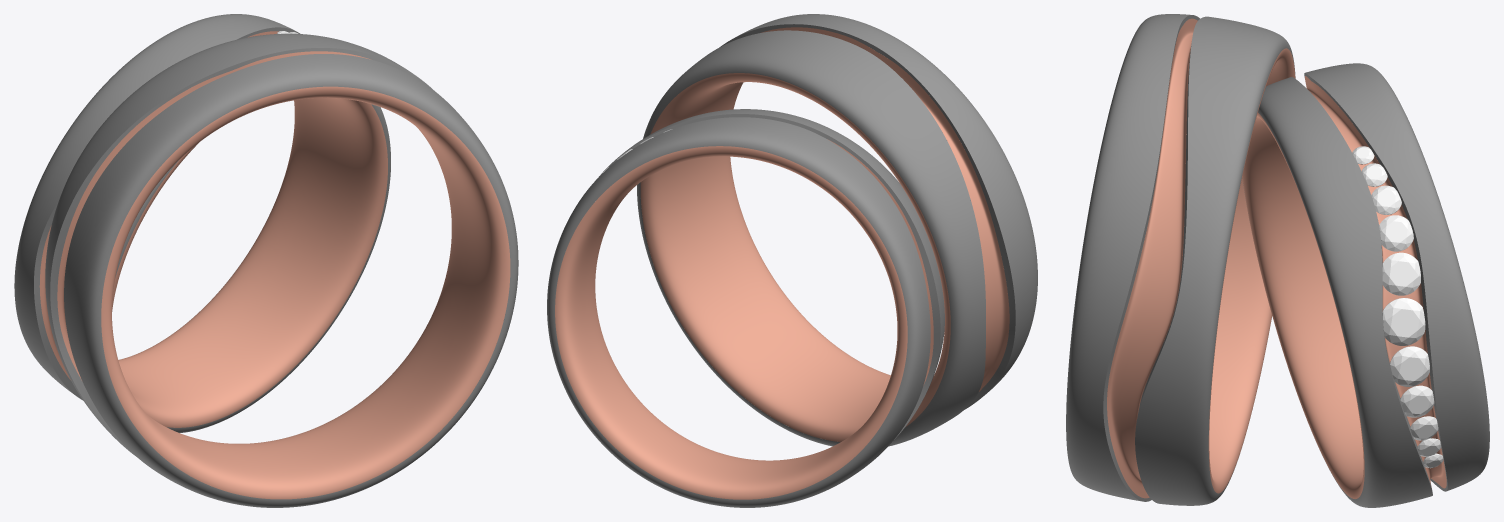
3 views of the same model, side by side, from view 1: azimuth 30°, elevation 25°; view 2: azimuth 150°, elevation 25°; view 3: azimuth 270°, elevation 25° (orthographic). The views are drawn at different scales.
Visible parts, largest first — view 1: Torus013_1_1, Torus013_2, Torus013_1, Torus013; view 2: Torus013_1_1, Torus013_2, Torus013_1, Torus013; view 3: Torus013_2, Torus013, Torus013_1_1, Torus013_1, Brillant_1011, Brillant_1012, Brillant_1017, Brillant_1013, Brillant_1018, Brillant_1014, Brillant_1019, Brillant_1015.
Part boxes in pixels (left/top/right/bottom): Torus013_1_1: left=57, top=51, right=510, bottom=499; Torus013_2: left=45, top=33, right=518, bottom=507; Torus013_1: left=39, top=31, right=387, bottom=427; Torus013: left=14, top=14, right=390, bottom=432; Torus013_1_1: left=640, top=27, right=1009, bottom=442; Torus013_2: left=637, top=14, right=1037, bottom=446; Torus013_1: left=555, top=139, right=933, bottom=499; Torus013: left=547, top=109, right=944, bottom=507; Torus013_2: left=1066, top=14, right=1295, bottom=505; Torus013: left=1242, top=63, right=1489, bottom=507; Torus013_1_1: left=1107, top=18, right=1295, bottom=498; Torus013_1: left=1242, top=76, right=1446, bottom=499; Brillant_1011: left=1382, top=298, right=1425, bottom=345; Brillant_1012: left=1382, top=252, right=1420, bottom=295; Brillant_1017: left=1390, top=346, right=1429, bottom=386; Brillant_1013: left=1379, top=215, right=1413, bottom=251; Brillant_1018: left=1400, top=385, right=1434, bottom=417; Brillant_1014: left=1371, top=185, right=1401, bottom=214; Brillant_1019: left=1410, top=416, right=1438, bottom=440; Brillant_1015: left=1361, top=163, right=1387, bottom=186.
Size of what is drawn, in the model's own units: 2.42 by 2.41 by 2.08.
